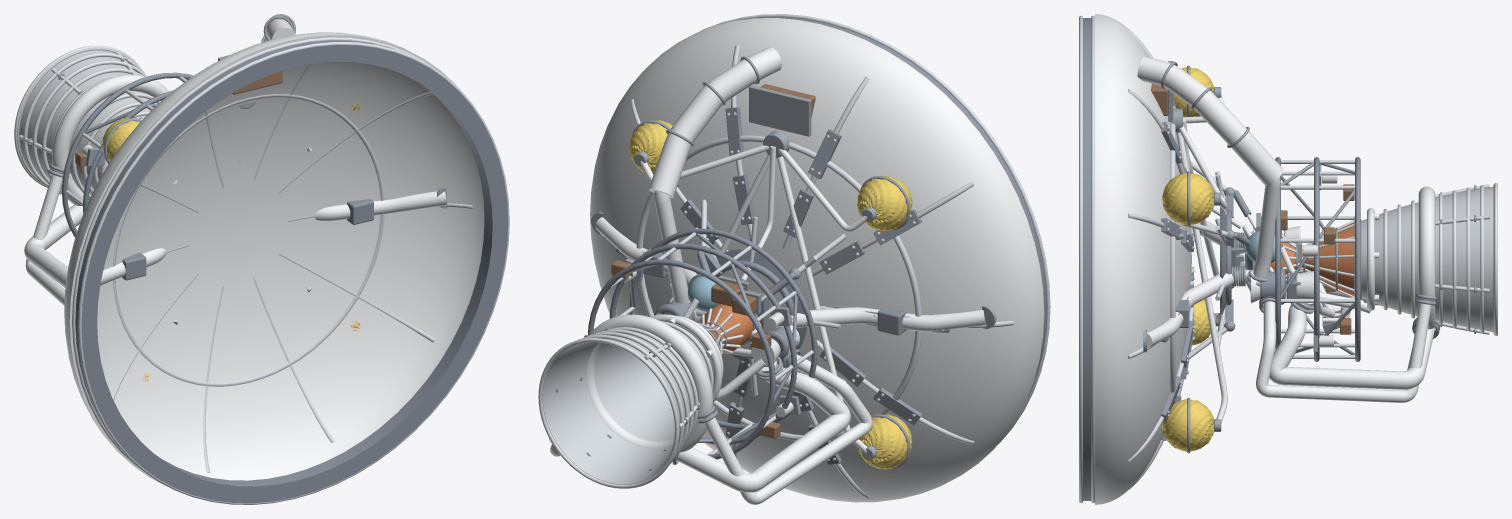
File: thruster-standard.glb
The picture shows the model from 3 angles, left to right: view 1: azimuth 30°, elevation 25°; view 2: azimuth 150°, elevation 25°; view 3: azimuth 270°, elevation 25°; orthographic projection. The views are drawn at different scales.
Visible parts, largest first — view 1: aft_dome, thrust_interface_ring, nozzle_extension, thrust_ring_flange_0.475, dome_equator_ring, nozzle_midsection_manifold, thrust_ring_flange_0.325, nozzle_midsection_feed_-1, fuel_feedline, nozzle_midsection_aux_feed_-1, powerhead_support_ring_2, nozzle_circumferential_rib_9 (+11 smaller); view 2: aft_dome, nozzle_extension, nozzle_midsection_feed_-1, lh2_feedline_protective_sleeve, nozzle_midsection_manifold, nozzle_midsection_aux_feed_-1, dome_equator_ring, lox_feedline, thrust_ring_flange_0.475, powerhead_support_ring_2, bay_avionics_mount, helium_copv_0 (+33 smaller); view 3: aft_dome, nozzle_extension, nozzle_midsection_feed_+1, lh2_feedline_protective_sleeve, thrust_interface_ring, nozzle_midsection_aux_feed_+1, nozzle_midsection_manifold, helium_copv_1, helium_copv_3, thrust_ring_flange_0.325, thrust_ring_flange_0.475, combustion_chamber (+21 smaller).
Boxes of the visible parts, x1,y1,x2,y2 form: aft_dome: (64,32,484,486); thrust_interface_ring: (75,40,508,503); nozzle_extension: (19,50,157,194); thrust_ring_flange_0.475: (78,41,509,504); dome_equator_ring: (113,94,384,386); nozzle_midsection_manifold: (52,74,168,205); thrust_ring_flange_0.325: (72,37,440,468); nozzle_midsection_feed_-1: (24,205,83,287); fuel_feedline: (314,191,447,221); nozzle_midsection_aux_feed_-1: (25,171,64,305); powerhead_support_ring_2: (62,72,193,237); nozzle_circumferential_rib_9: (23,53,145,186); aft_dome: (590,18,1044,502); nozzle_extension: (542,328,712,484); nozzle_midsection_feed_-1: (676,360,850,492); lh2_feedline_protective_sleeve: (648,47,781,197); nozzle_midsection_manifold: (586,314,712,452); nozzle_midsection_aux_feed_-1: (705,353,872,504); dome_equator_ring: (636,135,921,440); lox_feedline: (791,307,985,331); thrust_ring_flange_0.475: (699,14,1050,444); powerhead_support_ring_2: (588,259,775,459); bay_avionics_mount: (749,85,811,136); helium_copv_0: (857,175,912,230); aft_dome: (1095,14,1191,504); nozzle_extension: (1361,186,1493,332); nozzle_midsection_feed_+1: (1269,303,1435,389); lh2_feedline_protective_sleeve: (1137,56,1283,185); thrust_interface_ring: (1083,18,1091,500); nozzle_midsection_aux_feed_+1: (1256,300,1431,402); nozzle_midsection_manifold: (1418,186,1435,329); helium_copv_1: (1162,173,1214,225); helium_copv_3: (1162,399,1213,451); thrust_ring_flange_0.325: (1091,15,1094,503); thrust_ring_flange_0.475: (1079,15,1082,503); combustion_chamber: (1255,222,1354,295).
Bounding box in the file's own units: 6.1 × 6.1 × 5.2.
